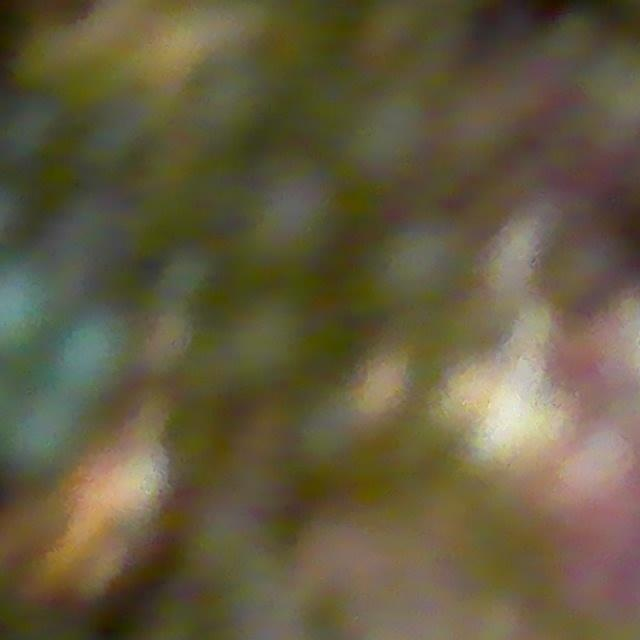SeaGrape: (366, 219, 472, 315), (50, 307, 139, 400), (0, 389, 86, 482), (0, 257, 60, 360)
